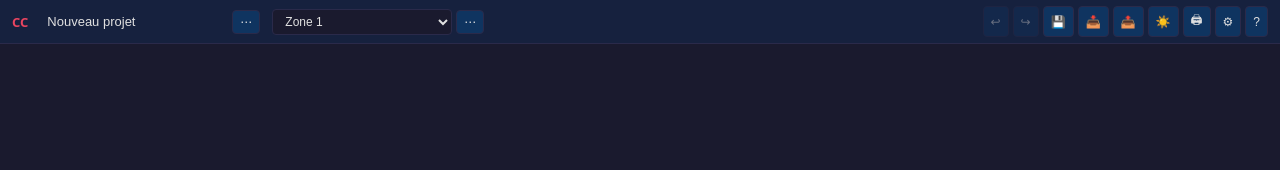
Test case: AppHeader › zone actions menu › Should open the zone actions menu when the "..." button is clicked
Click the 2nd button titled "Actions sur la zone". click: (470, 22)
box: [456,10,484,34]
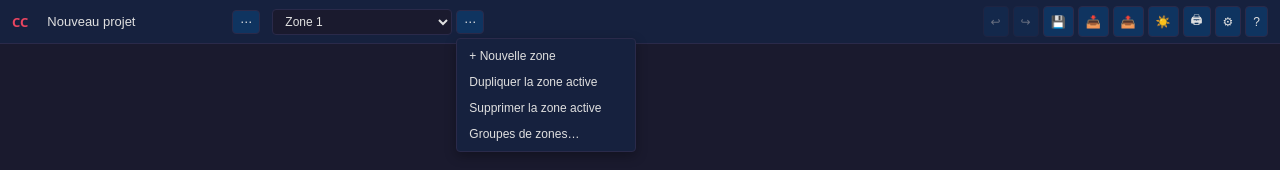
Check: the button titled "Nouvelle zone" is shown, box [461,42,631,68]
